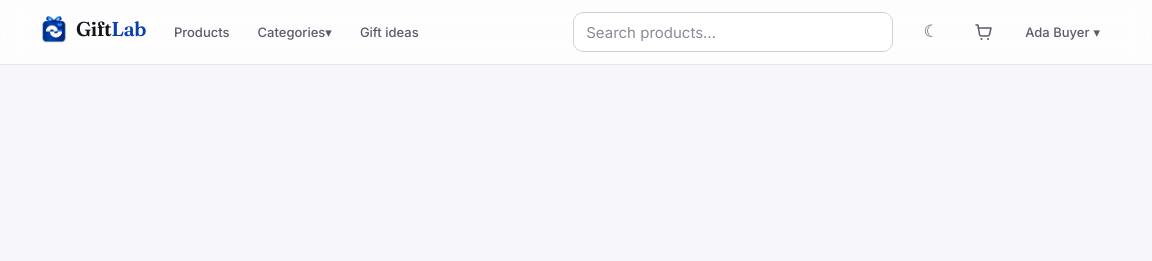
Test: shows a buyer account menu with an Addresses link
What coordinates should you click on to do the following:
click the button "Ada Buyer ▾"
I would click on:
 (1063, 32)
Its box is left=1013, top=10, right=1112, bottom=54.
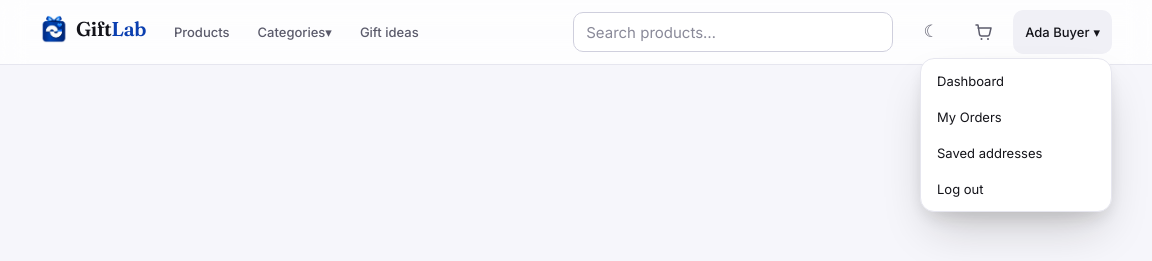
Result: the link "Saved addresses" is shown at left=937, top=145, right=1042, bottom=161
